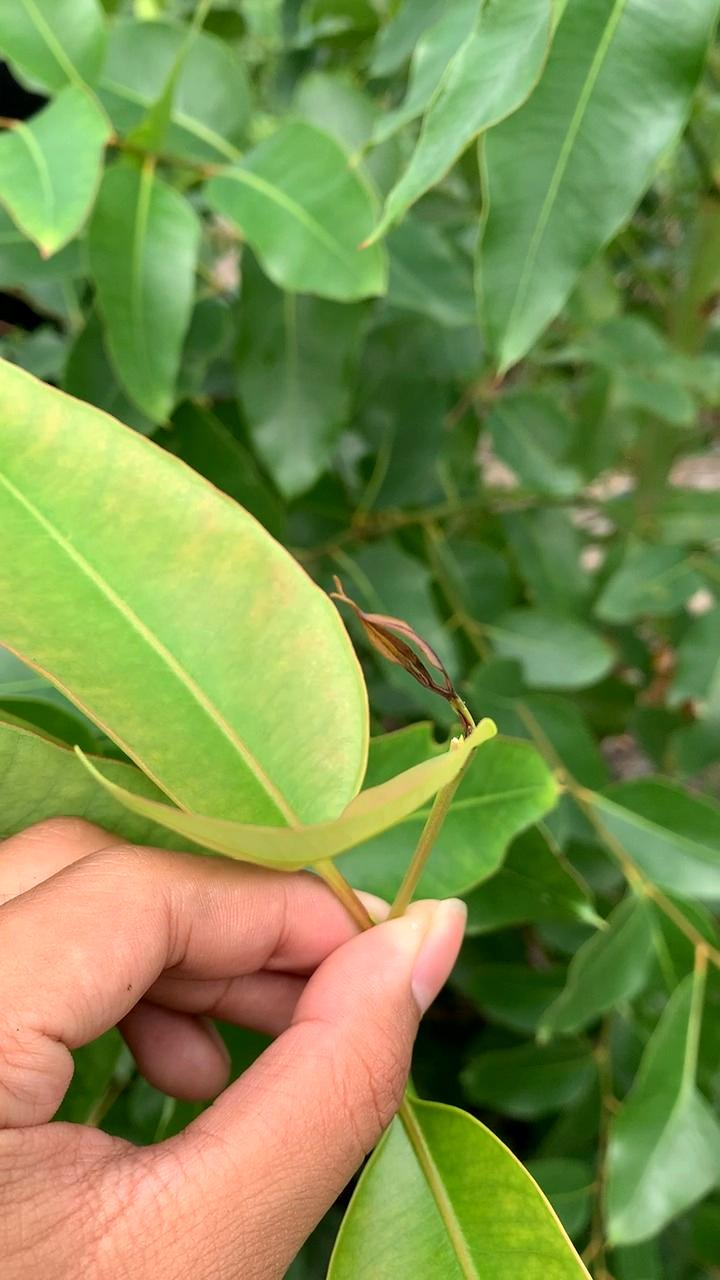Helopeltis-Withered Sprout: (333, 571, 493, 765)
